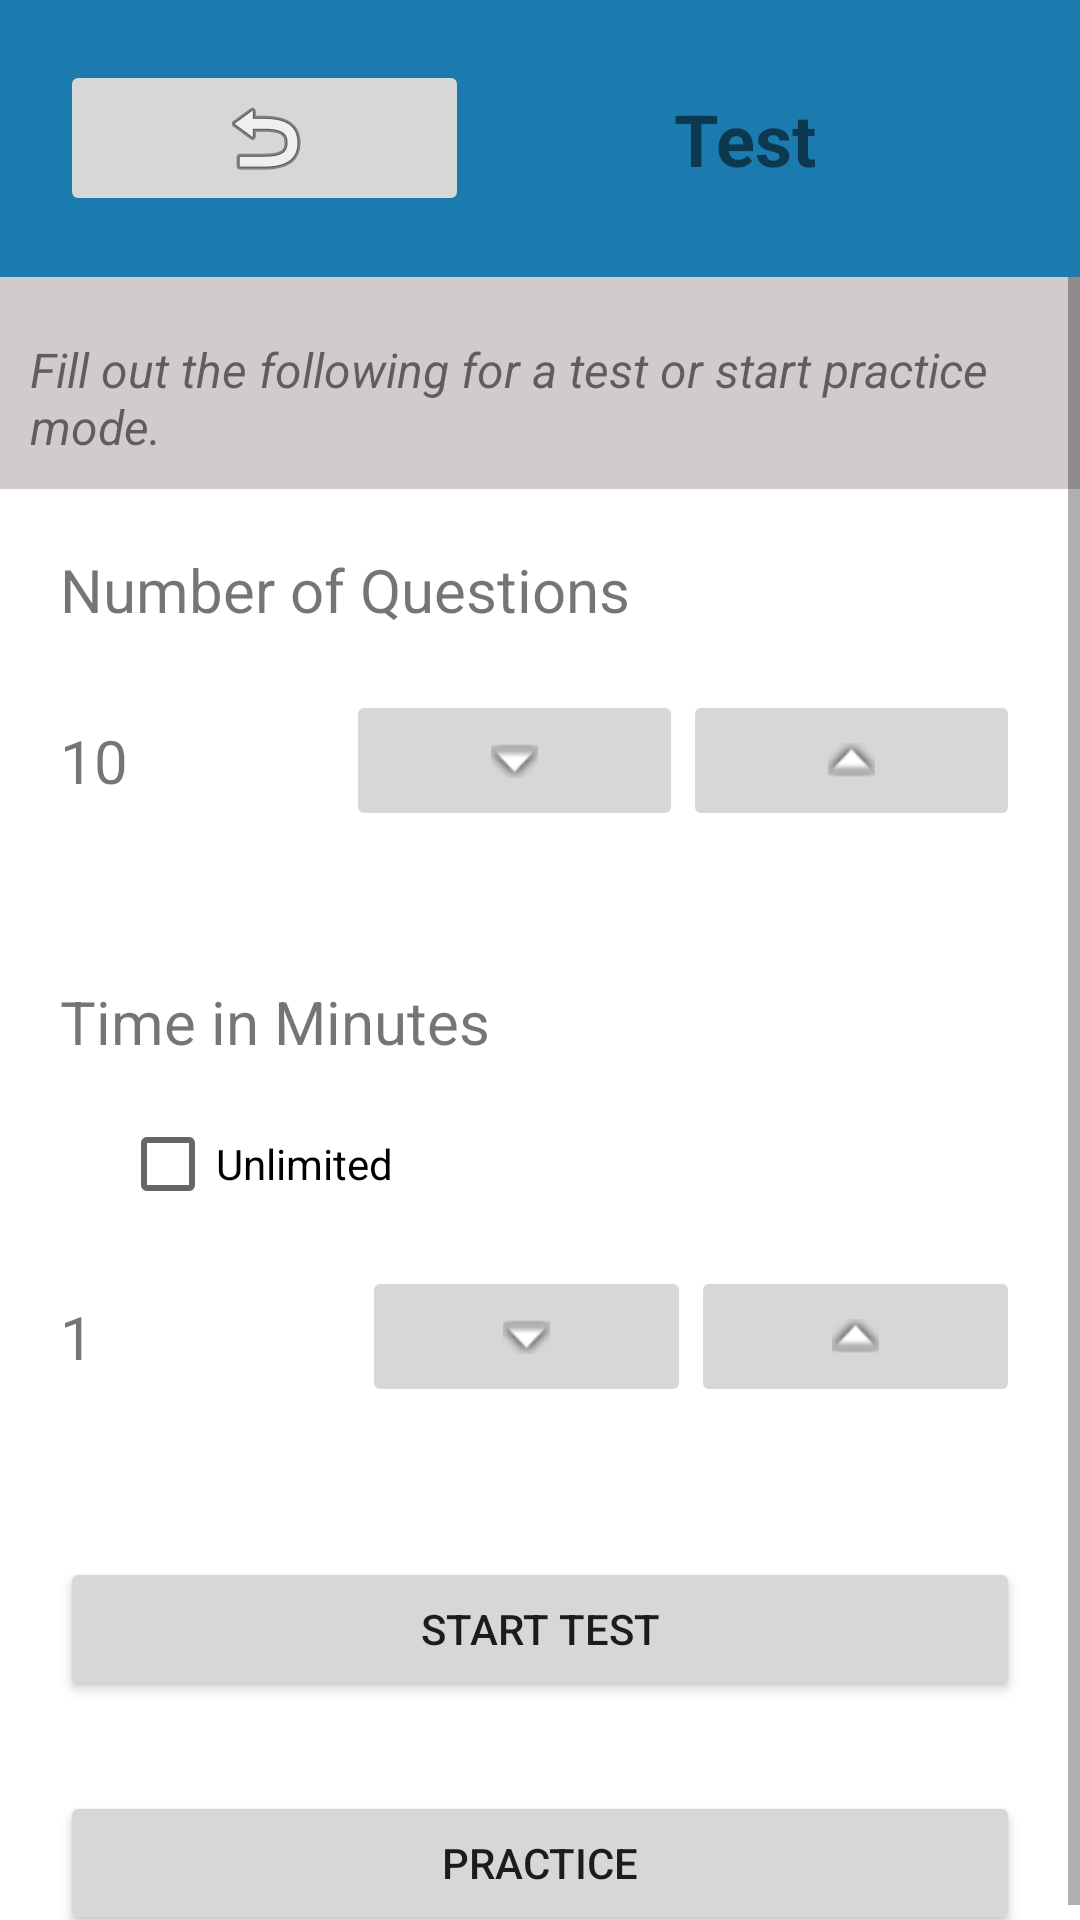

Locate icon controls on the screen. Image size 1080w x 1920h, boxes as (x1,y1,x2,y2).
arrow down float: (358,708,671,813), (374,1284,679,1389)
arrow up float: (695,708,1008,813), (703,1284,1008,1389)
